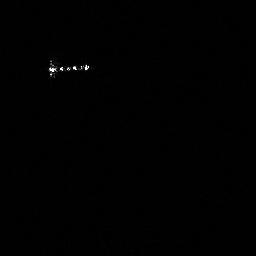ship: (44, 57, 93, 80)
